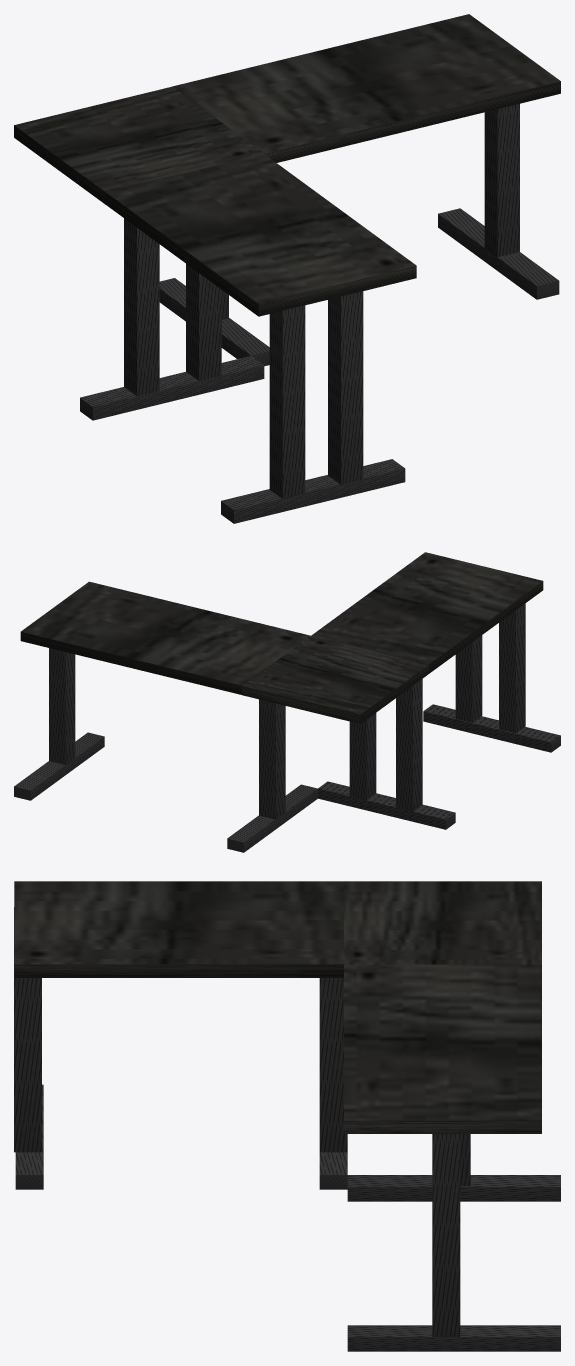
Rendered from escritorio.obj.
3 views of the same model, one above another, from view 1: azimuth 30°, elevation 25°; view 2: azimuth 150°, elevation 25°; view 3: azimuth 270°, elevation 25° (orthographic). The views are drawn at different scales.
Visible parts, largest first — view 1: pasted__pCube1 group, pCube1, pCube2, pasted__pCube5 group6, pCube5, pasted__pasted__pCube5 pasted__group5 group7, pasted__pasted__pCube5 pasted__group5 group9, pCube4, pasted__pCube4 group4, pasted__pCube5 group5, pasted__pCube3 group3, pCube3; view 2: pasted__pCube1 group, pCube1, pCube2, pasted__pasted__pCube5 pasted__group5 group7, pasted__pCube5 group6, pasted__pasted__pCube5 pasted__group5 group8, pasted__pasted__pCube5 pasted__group5 group9, pasted__pCube4 group4, pCube4, pasted__pCube5 group5, pCube5, pasted__pCube3 group3 (+1 smaller); view 3: pasted__pCube1 group, pCube1, pCube2, pasted__pasted__pCube5 pasted__group5 group9, pasted__pCube3 group3, pCube5, pCube3, pasted__pCube5 group5, pasted__pCube4 group4, pCube4, pasted__pasted__pCube5 pasted__group5 group8.
Boxes of the visible parts, x1=… form: pasted__pCube1 group: x1=172, y1=14, x2=560, y2=162; pCube1: x1=105, y1=153, x2=416, y2=316; pCube2: x1=14, y1=86, x2=263, y2=204; pasted__pCube5 group6: x1=269, y1=305, x2=305, y2=498; pCube5: x1=328, y1=291, x2=363, y2=484; pasted__pasted__pCube5 pasted__group5 group7: x1=124, y1=218, x2=159, y2=395; pasted__pasted__pCube5 pasted__group5 group9: x1=484, y1=103, x2=519, y2=257; pCube4: x1=80, y1=356, x2=264, y2=420; pasted__pCube4 group4: x1=221, y1=459, x2=405, y2=523; pasted__pCube5 group5: x1=186, y1=264, x2=221, y2=380; pasted__pCube3 group3: x1=438, y1=208, x2=559, y2=299; pCube3: x1=159, y1=278, x2=269, y2=366; pasted__pCube1 group: x1=20, y1=581, x2=310, y2=694; pCube1: x1=311, y1=552, x2=543, y2=673; pCube2: x1=242, y1=636, x2=428, y2=723; pasted__pasted__pCube5 pasted__group5 group7: x1=396, y1=679, x2=422, y2=811; pasted__pCube5 group6: x1=499, y1=603, x2=525, y2=733; pasted__pasted__pCube5 pasted__group5 group8: x1=259, y1=699, x2=285, y2=819; pasted__pasted__pCube5 pasted__group5 group9: x1=49, y1=648, x2=75, y2=764; pasted__pCube4 group4: x1=423, y1=704, x2=560, y2=752; pCube4: x1=318, y1=781, x2=455, y2=829; pasted__pCube5 group5: x1=349, y1=713, x2=376, y2=800; pCube5: x1=455, y1=635, x2=482, y2=722; pasted__pCube3 group3: x1=14, y1=732, x2=104, y2=800; pasted__pCube1 group: x1=344, y1=964, x2=541, y2=1133; pCube1: x1=14, y1=881, x2=343, y2=977; pCube2: x1=344, y1=881, x2=541, y2=964; pasted__pasted__pCube5 pasted__group5 group9: x1=432, y1=1134, x2=460, y2=1336; pasted__pCube3 group3: x1=347, y1=1325, x2=560, y2=1351; pCube5: x1=14, y1=938, x2=41, y2=1152; pCube3: x1=347, y1=1175, x2=560, y2=1201; pasted__pCube5 group5: x1=319, y1=978, x2=347, y2=1152; pasted__pCube4 group4: x1=15, y1=1084, x2=43, y2=1189; pCube4: x1=319, y1=1152, x2=347, y2=1189; pasted__pasted__pCube5 pasted__group5 group8: x1=460, y1=1134, x2=470, y2=1186.
Size of the model in its own units: 1.81 by 0.7732 by 1.66.
2 materials, 2 textured.
